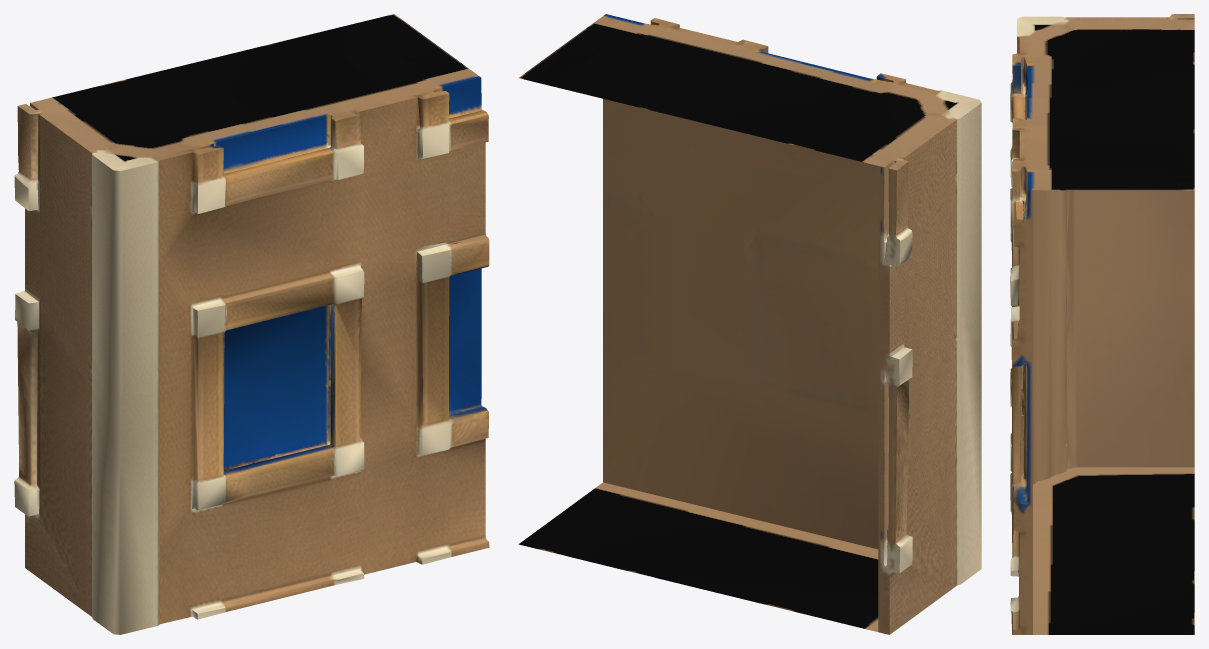
Rendered from 5-upper-walls-front-left.fbx.
3 views of the same model, side by side, from view 1: azimuth 30°, elevation 25°; view 2: azimuth 150°, elevation 25°; view 3: azimuth 270°, elevation 25° (orthographic). The views are drawn at different scales.
Visible parts, largest first — view 1: upper-walls-front-left; view 2: upper-walls-front-left; view 3: upper-walls-front-left.
Part boxes in pixels (left/top/right/bottom): upper-walls-front-left: left=14, top=14, right=489, bottom=634; upper-walls-front-left: left=518, top=14, right=981, bottom=634; upper-walls-front-left: left=1010, top=14, right=1194, bottom=634.
Size of the model in its own units: 4751 by 5542 by 2083.
1 material, 1 textured.
